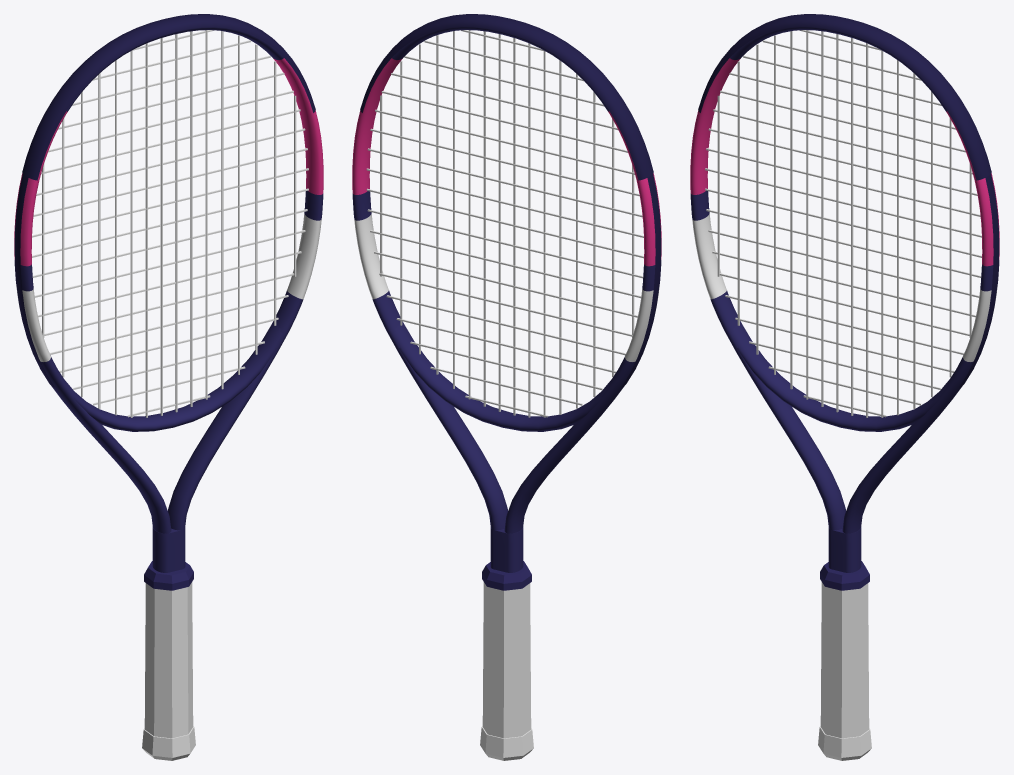
File: babolat-b-fly-25-2023.glb
The picture shows the model from 3 angles, left to right: view 1: azimuth 30°, elevation 25°; view 2: azimuth 150°, elevation 25°; view 3: azimuth 330°, elevation 25°; orthographic projection.
Visible parts, largest first — view 1: frame, strings_mains, strings_crosses, grip, bumper, grommets, butt_cap, collar; view 2: frame, strings_mains, strings_crosses, grip, bumper, grommets, butt_cap, collar; view 3: frame, strings_mains, strings_crosses, grip, bumper, grommets, butt_cap, collar.
Part boxes in pixels (<box>): frame: <box>14,27,323,572</box>; strings_mains: <box>42,30,296,417</box>; strings_crosses: <box>32,30,308,417</box>; grip: <box>144,582,193,738</box>; bumper: <box>22,14,315,180</box>; grommets: <box>14,174,54,387</box>; butt_cap: <box>142,726,195,760</box>; collar: <box>144,561,193,590</box>; frame: <box>352,27,661,572</box>; strings_mains: <box>380,30,634,417</box>; strings_crosses: <box>366,30,643,417</box>; grip: <box>482,582,531,738</box>; bumper: <box>360,14,653,180</box>; grommets: <box>621,174,661,387</box>; butt_cap: <box>480,726,533,760</box>; collar: <box>482,561,531,590</box>; frame: <box>690,27,999,572</box>; strings_mains: <box>717,30,971,417</box>; strings_crosses: <box>705,30,981,417</box>; grip: <box>820,582,869,738</box>; bumper: <box>698,14,991,180</box>; grommets: <box>959,174,999,387</box>; butt_cap: <box>818,726,871,760</box>; collar: <box>820,561,869,590</box>.
Size of the model in its own units: 0.2769 by 0.6353 by 0.0396.
